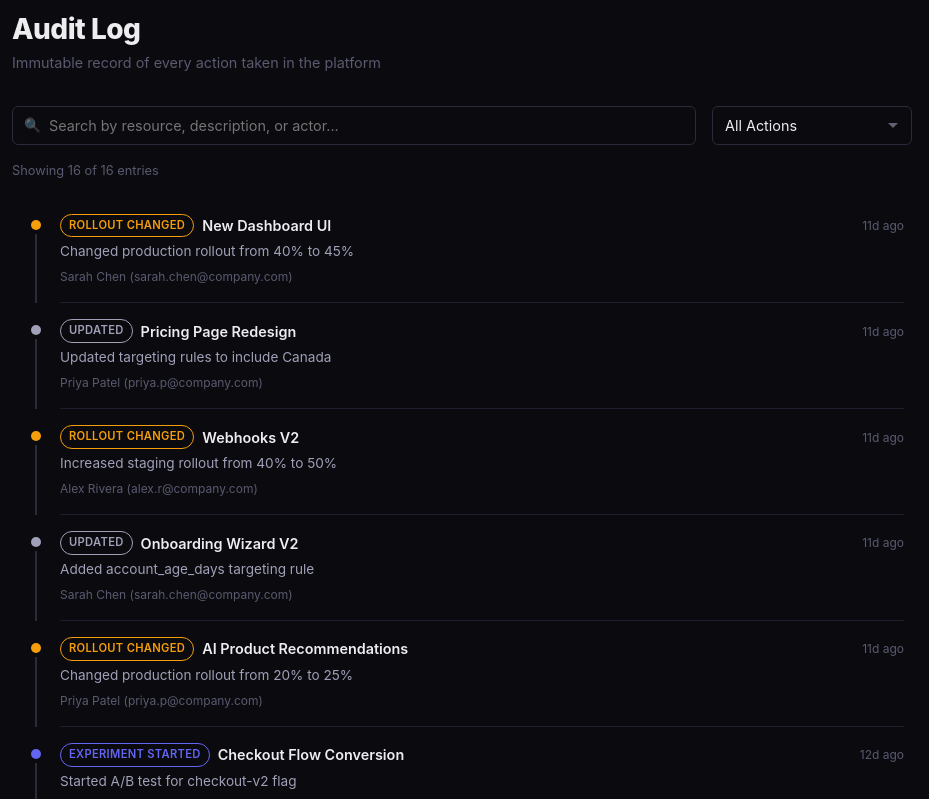
Test case: AuditLogPage › expands entry to show details
Click the text "Changed production rollout from 40% to 45%".
click(207, 251)  # box [60,243,354,259]
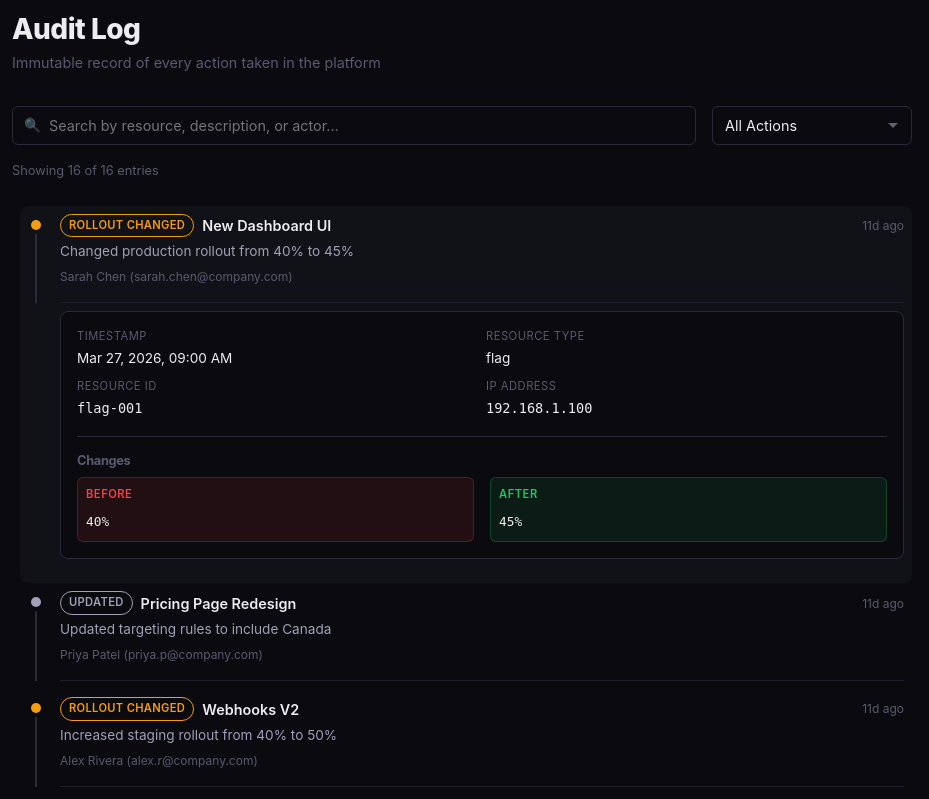
Check: the text "IP Address" is shown, box [486,379,556,393]
